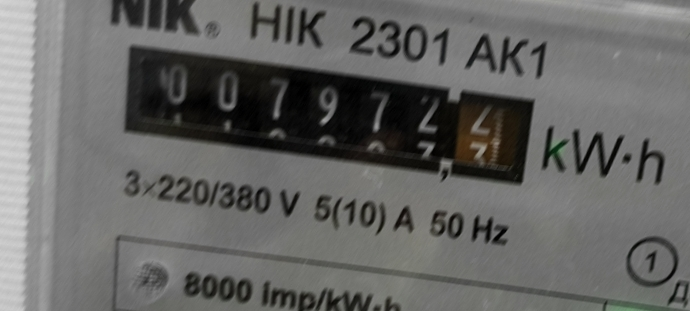0: (160, 60, 192, 104), (211, 66, 241, 111)
2: (413, 93, 442, 134), (465, 100, 493, 137)
3: (463, 138, 488, 165)
7: (360, 86, 392, 135), (260, 73, 291, 121)
9: (311, 80, 339, 126)
screen: (98, 26, 552, 203)
